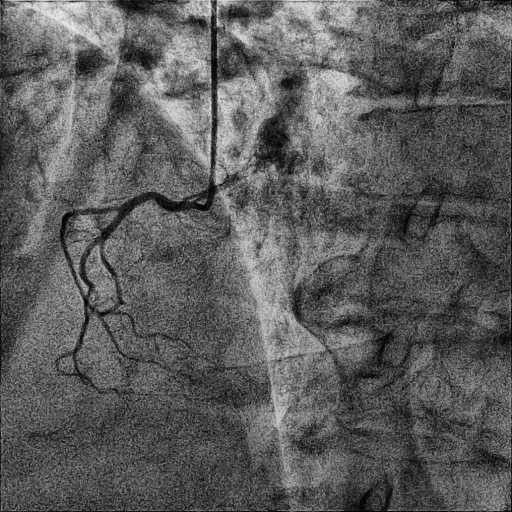rca: (73, 192, 189, 395)
